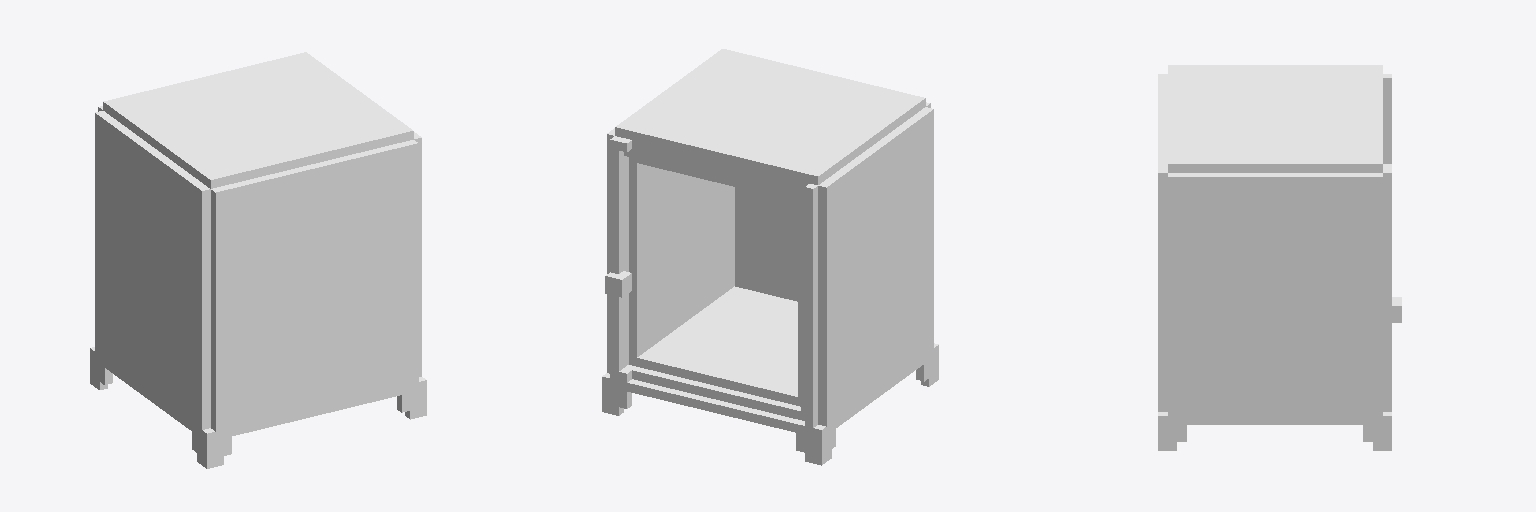
File: petit_coffre_sans_porte.obj
3 views of the same model, side by side, from view 1: azimuth 30°, elevation 25°; view 2: azimuth 150°, elevation 25°; view 3: azimuth 270°, elevation 25° (orthographic).
Parts seen in each view (by area): view 1: object 1; view 2: object 1; view 3: object 1.
Boxes of the visible parts, box(x1,y1,x2,y2) form: object 1: box(90, 52, 426, 468); object 1: box(602, 49, 938, 465); object 1: box(1158, 65, 1401, 450).
Size of the model in its own units: 2.6 by 3.2 by 2.5.